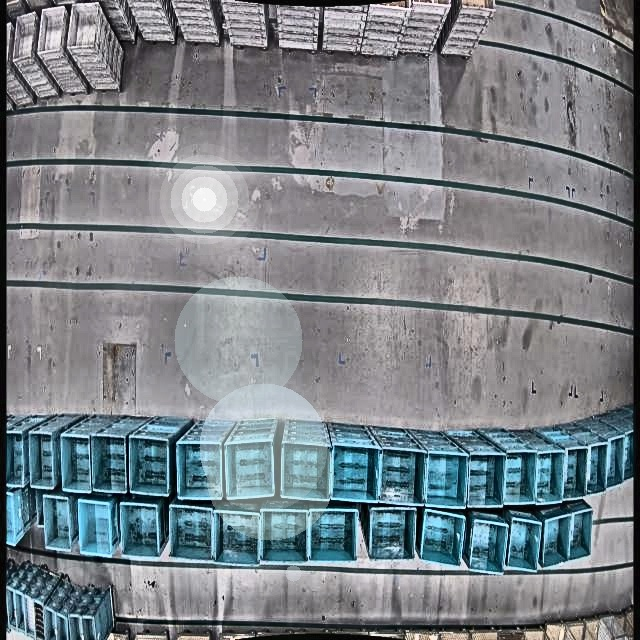Box: (279, 438, 331, 501), (225, 436, 275, 500), (176, 436, 224, 501), (260, 505, 309, 566), (309, 505, 358, 566), (168, 501, 215, 563), (368, 504, 417, 563), (330, 442, 377, 503), (216, 507, 262, 567), (128, 434, 171, 498), (424, 449, 469, 509), (420, 508, 464, 569), (119, 499, 162, 561), (378, 445, 419, 506), (469, 516, 508, 575), (78, 497, 113, 557), (506, 515, 542, 572), (61, 430, 93, 491), (467, 451, 500, 508), (42, 493, 73, 552), (92, 432, 122, 492), (541, 513, 571, 568), (534, 447, 562, 504), (30, 429, 57, 488), (503, 448, 530, 505), (569, 506, 593, 564), (563, 445, 587, 500), (586, 439, 608, 493), (6, 429, 26, 487), (7, 488, 27, 545), (607, 434, 624, 490), (6, 582, 17, 635), (623, 429, 634, 482), (24, 593, 35, 640), (461, 0, 498, 11), (83, 615, 99, 640), (45, 605, 56, 640), (35, 598, 44, 640), (69, 612, 82, 640), (56, 612, 68, 640), (17, 589, 24, 637)
